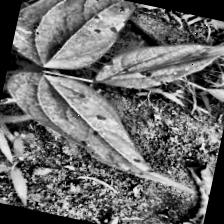ALS: (0, 66, 188, 186), (92, 0, 224, 111), (9, 0, 136, 81)
